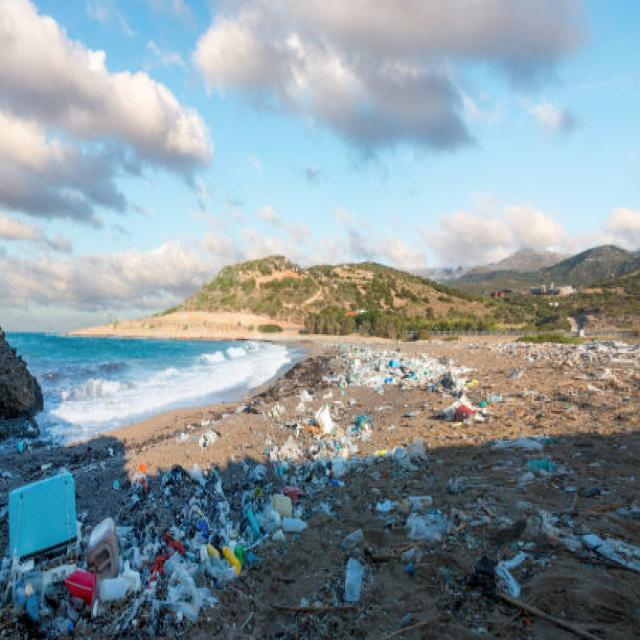metal: (4, 486, 119, 610)
plastic: (139, 467, 295, 604), (334, 338, 476, 420), (312, 408, 338, 442)
